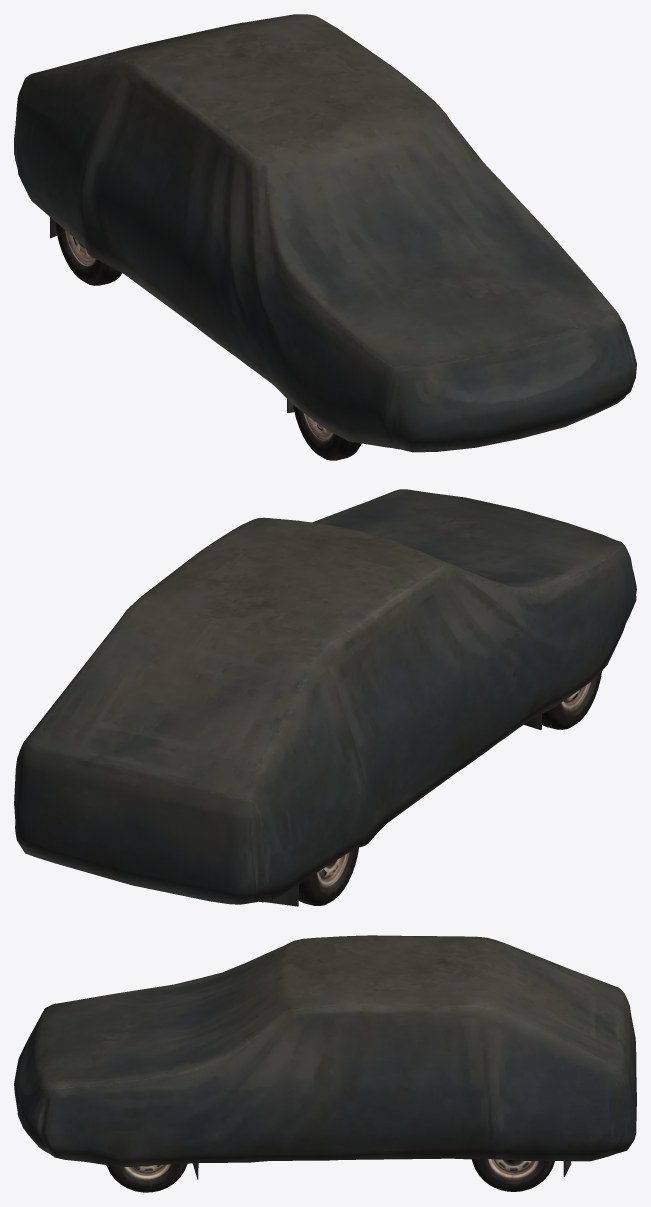
File: covered_car.glb
3 views of the same model, one above another, from view 1: azimuth 30°, elevation 25°; view 2: azimuth 150°, elevation 25°; view 3: azimuth 270°, elevation 25° (orthographic). The views are drawn at different scales.
Visible parts, largest first — view 1: covered_car_wheel_01; view 2: covered_car_wheel_01; view 3: covered_car_wheel_01.
Part boxes in pixels (x1=…): covered_car_wheel_01: x1=14, y1=14, x2=636, y2=460; covered_car_wheel_01: x1=14, y1=489, x2=636, y2=906; covered_car_wheel_01: x1=14, y1=935, x2=636, y2=1192.
Bounding box in the file's own units: 1.79 × 1.41 × 4.38.
1 material, 1 textured.
